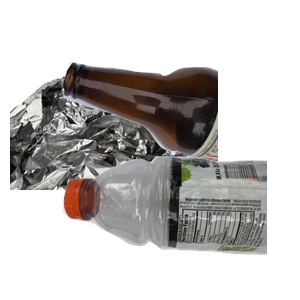glass: (60, 59, 300, 217)
metal: (10, 73, 212, 253)
plastic: (60, 152, 300, 300)
trash: (109, 175, 279, 300)
